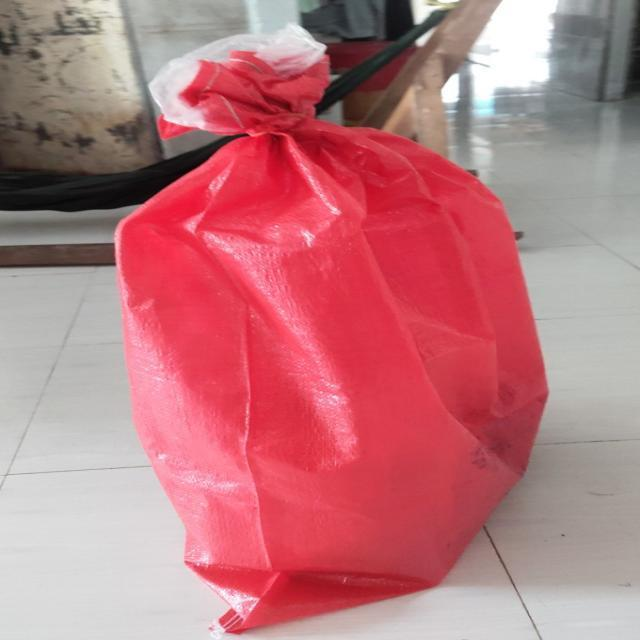gunny_bag: (116, 24, 547, 634)
